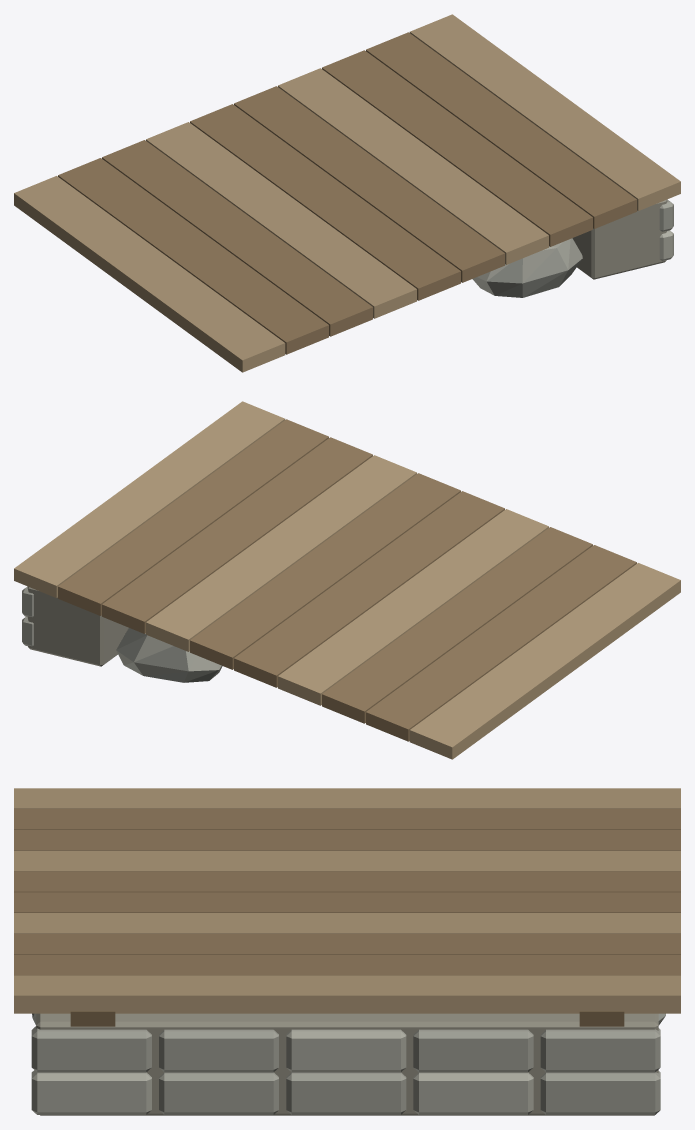
File: bridge_approach.glb
The picture shows the model from 3 angles, top to bottom: view 1: azimuth 30°, elevation 25°; view 2: azimuth 150°, elevation 25°; view 3: azimuth 270°, elevation 25°; orthographic projection. The views are drawn at different scales.
Visible parts, largest first — view 1: bridge_approach_oak, bridge_approach_oak_light, bridge_approach_land_mortar, bridge_approach_land_rock; view 2: bridge_approach_oak, bridge_approach_oak_light, bridge_approach_land_mortar, bridge_approach_land_rock; view 3: bridge_approach_oak, bridge_approach_oak_light, bridge_approach_land_rock, bridge_approach_land_rock_light, bridge_approach_land_mortar, bridge_approach_oak_dark.
Boxes of the visible parts, x1,y1,x2,y2 form: bridge_approach_oak: [58, 32, 636, 354]; bridge_approach_oak_light: [14, 14, 680, 372]; bridge_approach_land_mortar: [572, 199, 667, 279]; bridge_approach_land_rock: [472, 199, 673, 297]; bridge_approach_oak: [58, 419, 636, 741]; bridge_approach_oak_light: [14, 401, 680, 759]; bridge_approach_land_mortar: [27, 586, 128, 666]; bridge_approach_land_rock: [22, 586, 222, 682]; bridge_approach_oak: [14, 809, 680, 975]; bridge_approach_oak_light: [14, 788, 680, 1013]; bridge_approach_land_rock: [31, 1013, 665, 1114]; bridge_approach_land_rock_light: [31, 1029, 533, 1114]; bridge_approach_land_mortar: [36, 1013, 658, 1115]; bridge_approach_oak_dark: [70, 1011, 624, 1026].
Bounding box in the file's own units: 3 × 0.5586 × 2.7.
